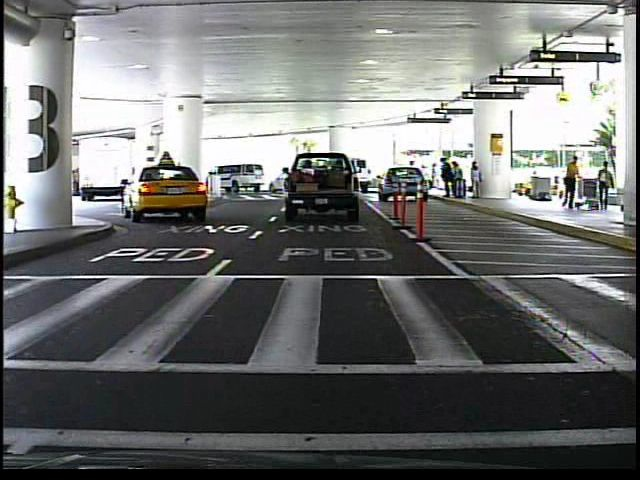person: (560, 154, 584, 214), (595, 158, 617, 213), (405, 158, 420, 193)
